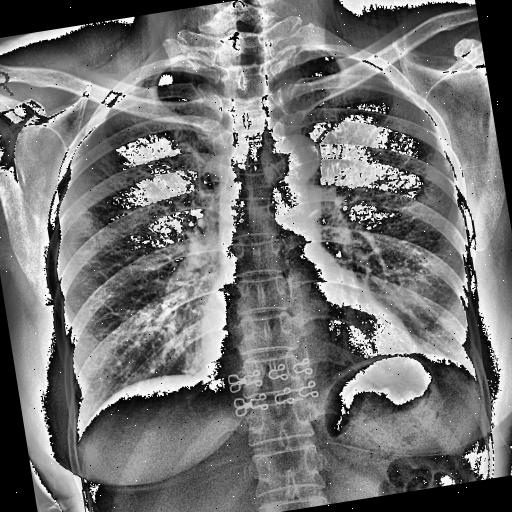0- Aortic enlargement: (259, 128, 326, 188), (262, 125, 324, 186)
11- Pleural thickening: (106, 76, 144, 106), (114, 82, 140, 103), (366, 62, 383, 76)
2- Calcification: (308, 144, 322, 170)
3- Cardiomegaly: (194, 281, 424, 399)
